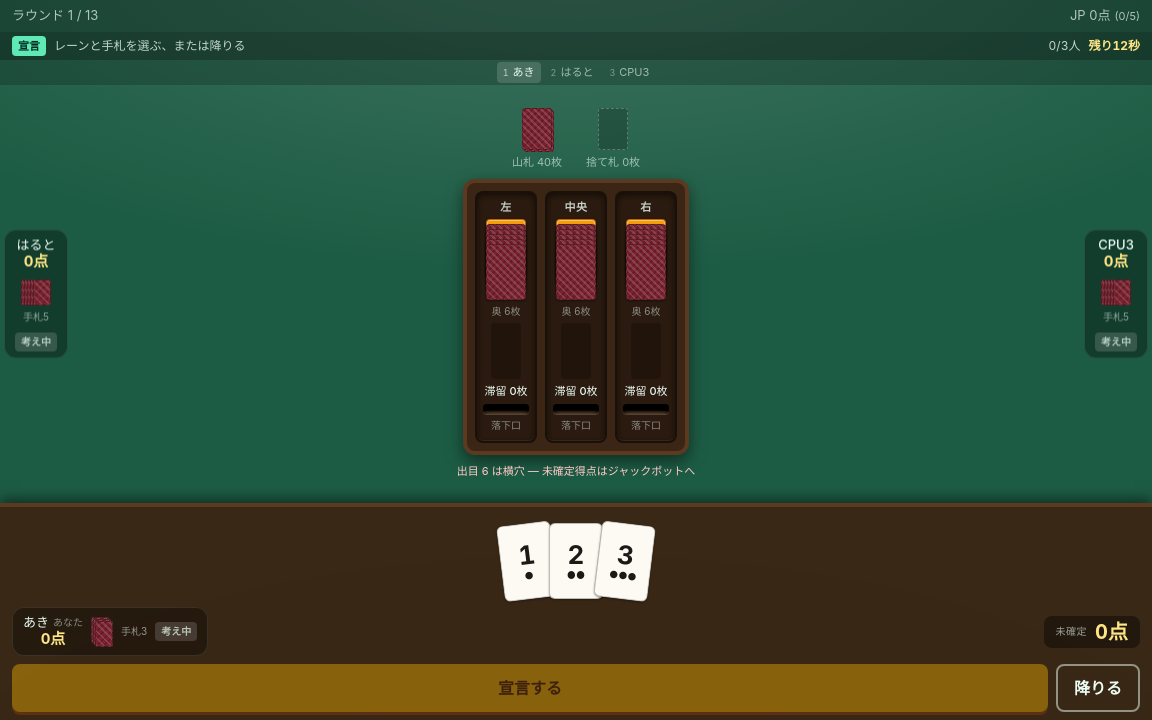
Test: 宣言（docs/realtime.md §8-3） › 宣言に失敗したら理由を表示する
Click the button named "1コイン札": (527, 561) 496,520 -> 559,602
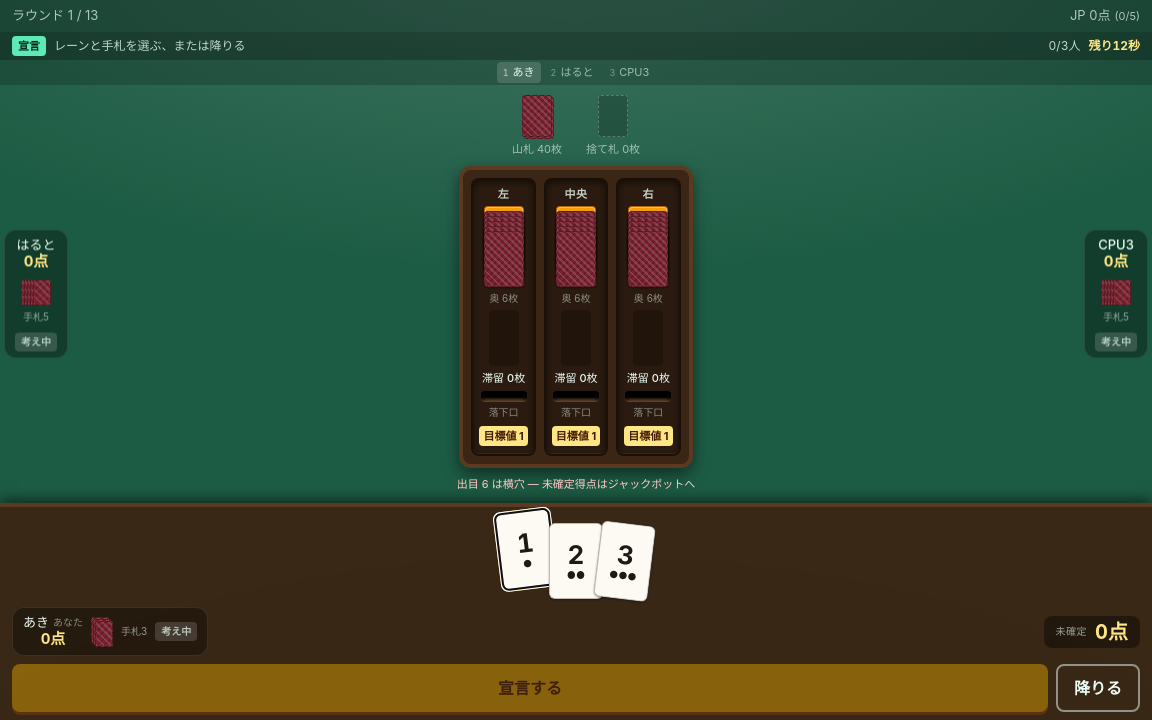
Click the button with aria-label "左レーン": (504, 317) 472,178 -> 536,456
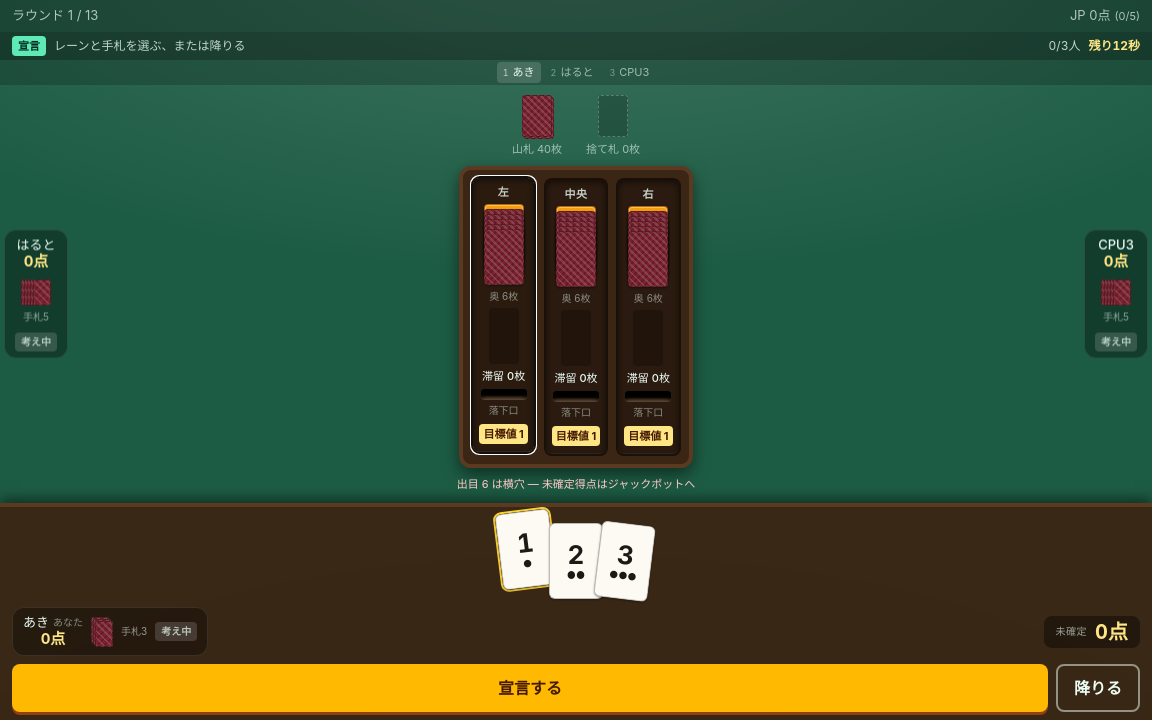
Click the button "宣言する": (530, 688) 12,664 -> 1048,712
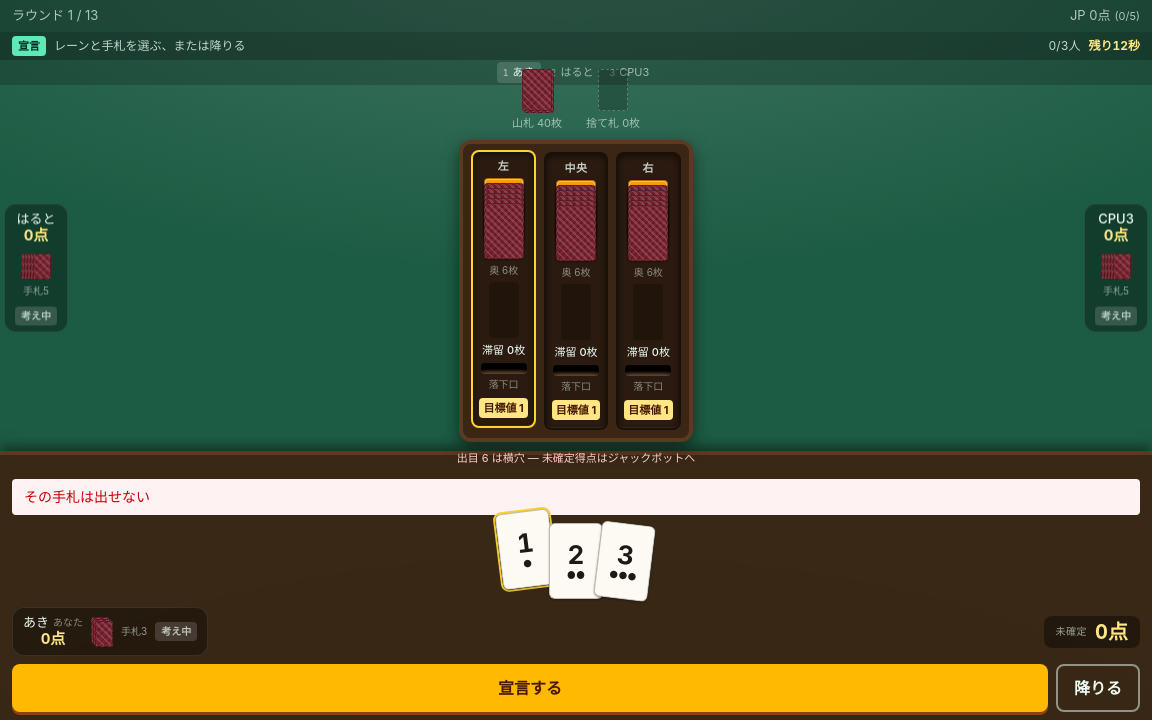
Expected: the message reads "その手札は出せない", 24,488 -> 150,505
